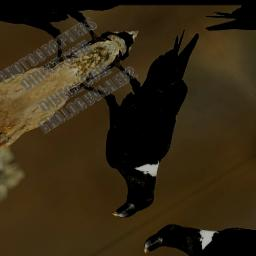Crow: (23, 12, 256, 225)
